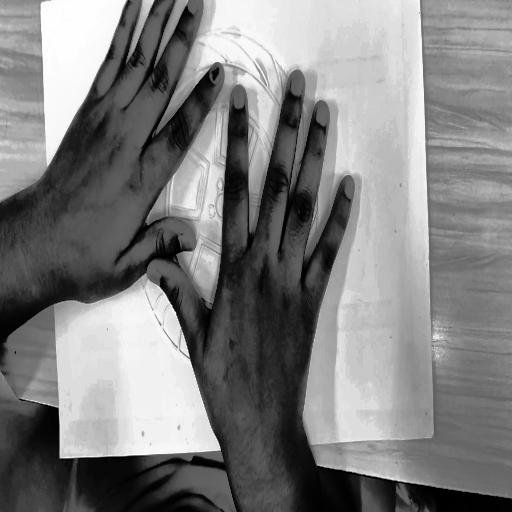bottom_left: (54, 453, 64, 465)
bottom_right: (430, 431, 437, 442)
tire: (120, 19, 334, 375)
top_left: (39, 0, 43, 8)
